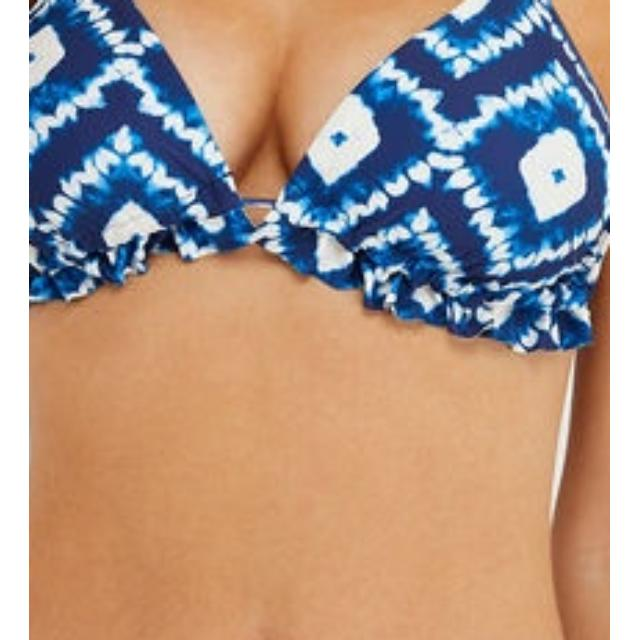polyester: (29, 0, 610, 338)
